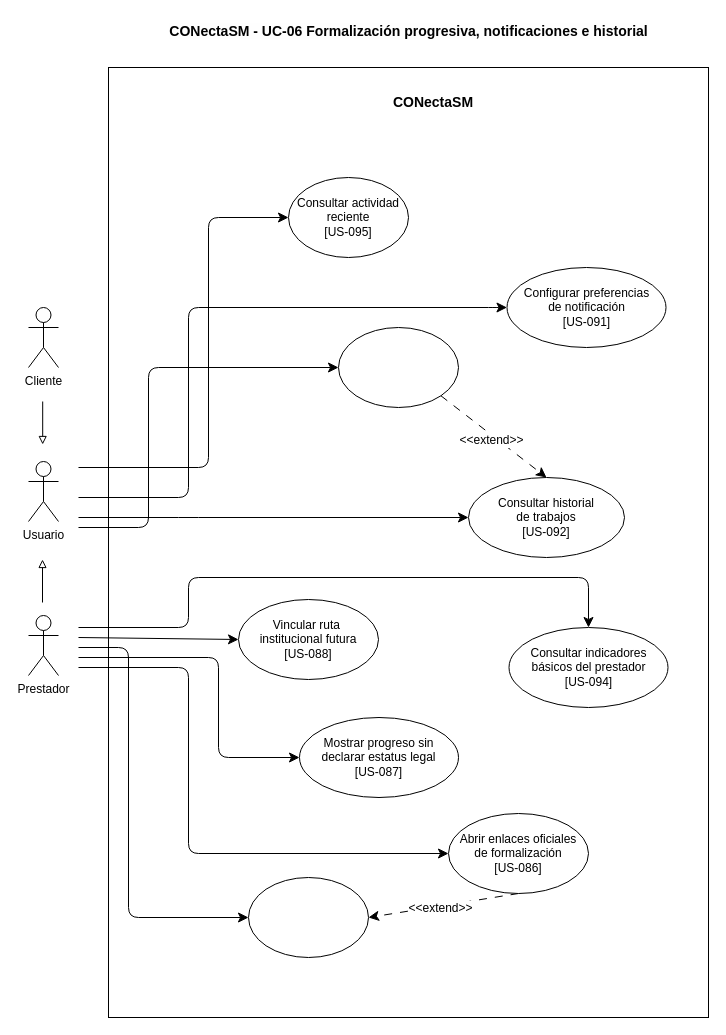
This 726x1035 diagram has some shape labels left out. Each missing label, with the centre of its shape:
Consultar ruta de formalización [US-083]: the point at 308,917
Descargar historial [US-093]: the point at 398,367
